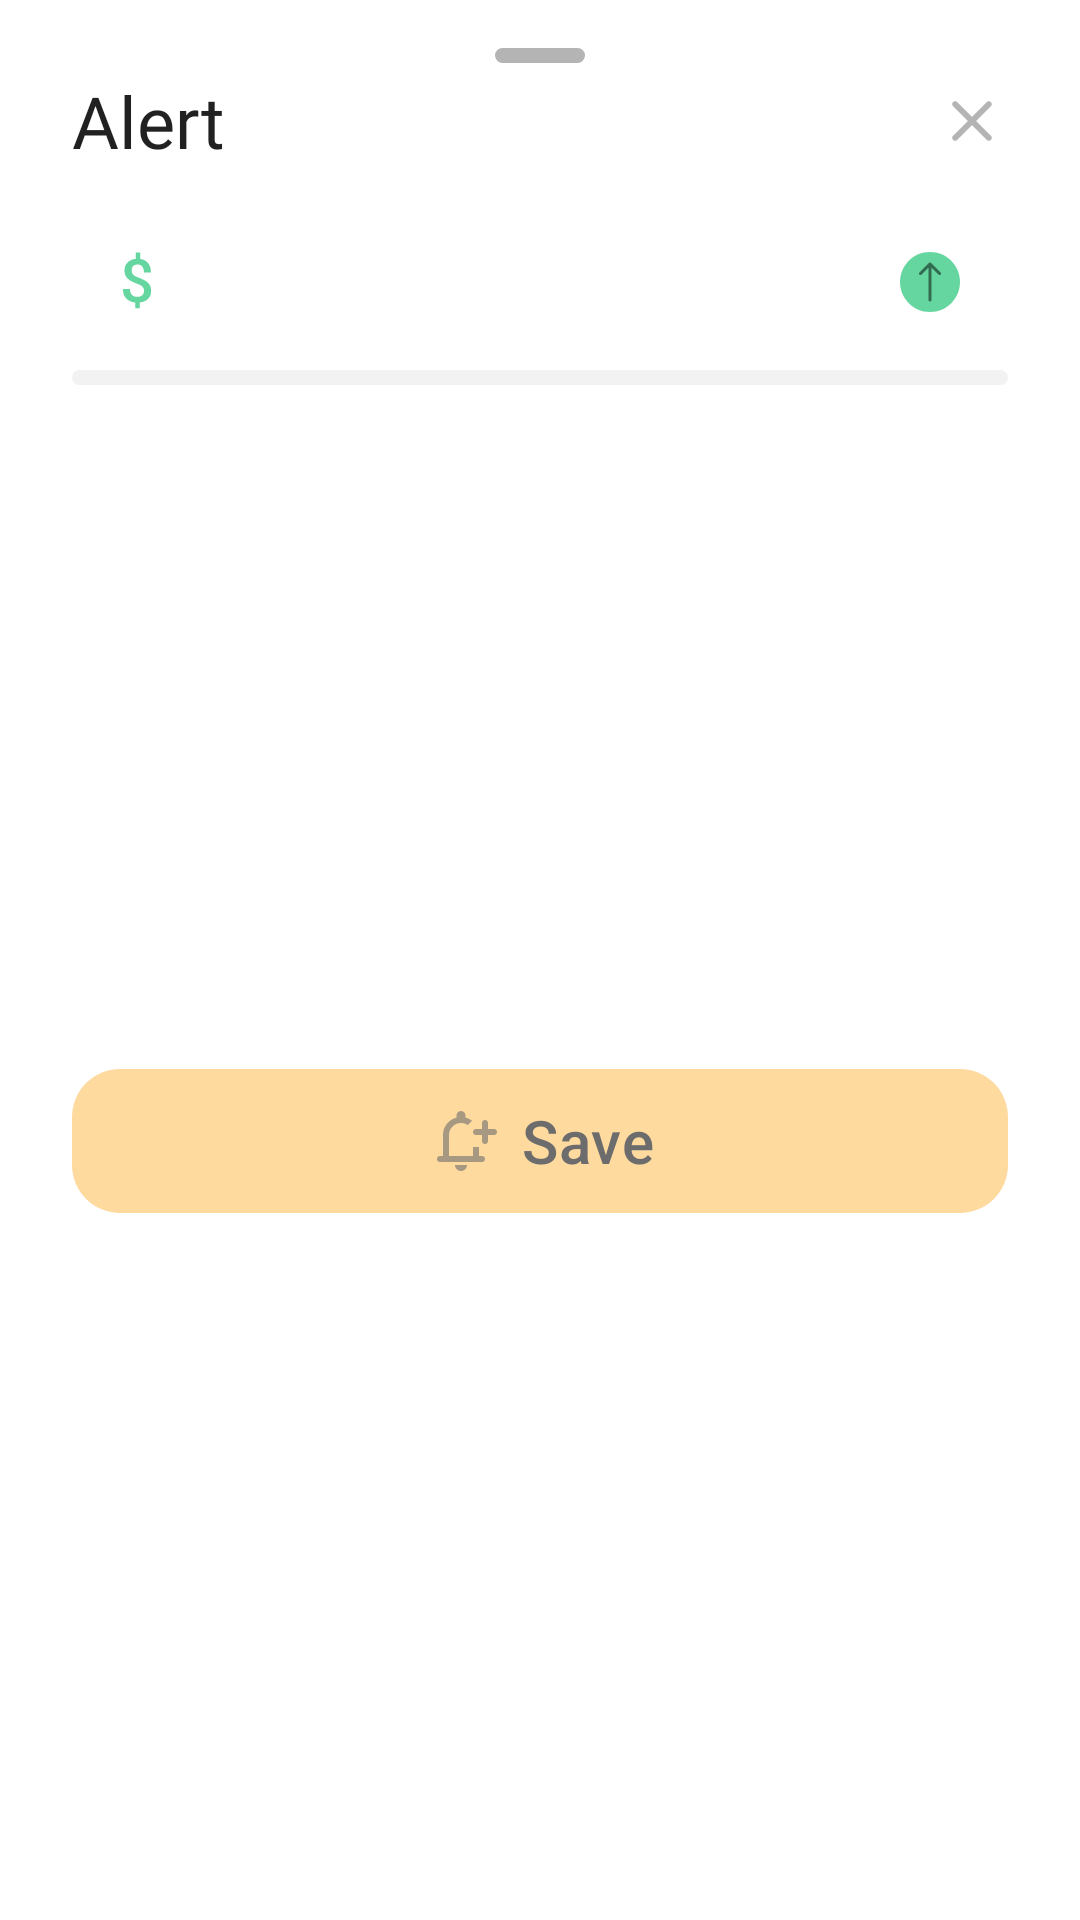

Where to tap for icons on this 1080x1920 app screen, as (x=x, y=y):
close: (x=972, y=121)
